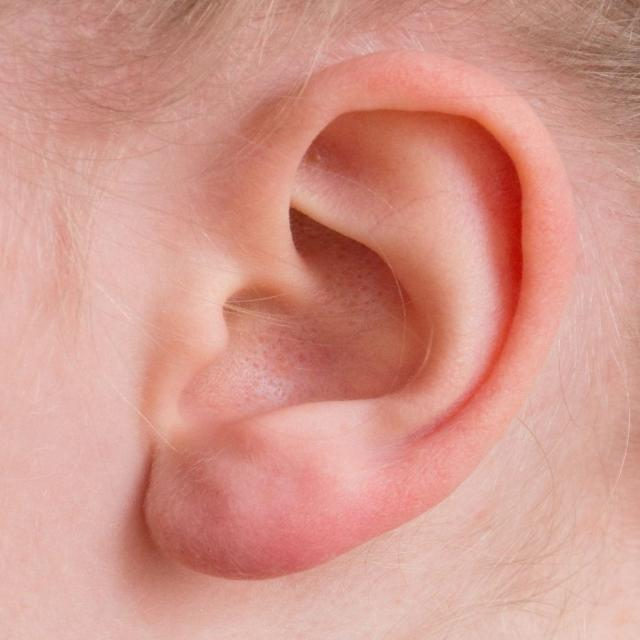earlobe: (143, 408, 322, 583)
wholeear: (144, 47, 581, 584)
